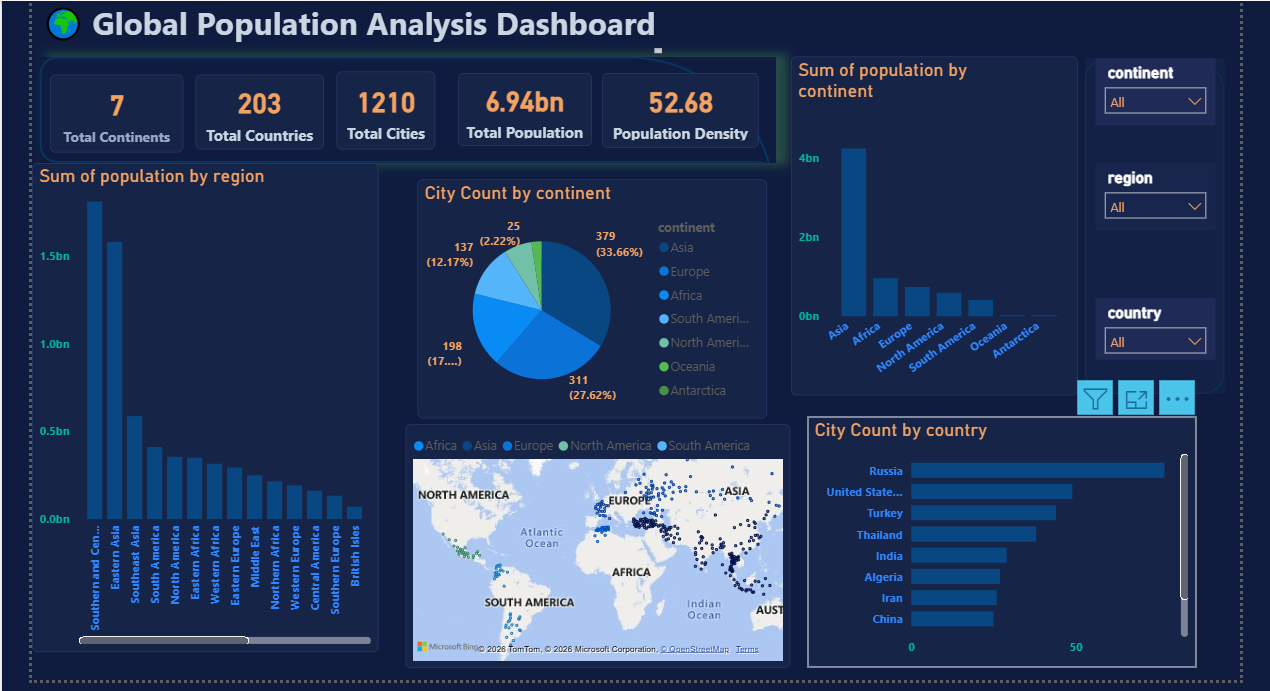

The dashboard page shown, as its layout file describes it:
{"tool":"powerbi","page":{"name":"Cities & Countries Analysis","canvas":[1280,720],"ordinal":0},"visuals":[{"type":"shape","box":[1116.6,60.4,147.9,356.3],"z":0},{"type":"shape","box":[8,58.9,781,112.9],"z":1000},{"type":"textbox","title":"🌍 Global  Population Analysis Dashboard","box":[0,0,672.8,60.4],"z":2000},{"type":"card","title":"Total Cities","fields":{"Values":["cities csv.Total Population"]},"box":[451.7,75.6,141.7,77.5],"z":3000},{"type":"card","title":"Total Cities","fields":{"Values":["cities csv.Total Continents"]},"box":[19.1,77.9,141.6,82.7],"z":4000},{"type":"card","title":"Total Cities","fields":{"Values":["cities csv.Total Countries"]},"box":[173.9,77.5,136.1,79.4],"z":5000},{"type":"card","fields":{"Values":["cities csv.Total Cities"]},"box":[322.9,74.8,105,82.7],"z":6000},{"type":"clusteredColumnChart","fields":{"Category":["countries csv.continent"],"Y":["Sum(countries csv.population)"]},"box":[804.8,58.9,303.8,359.5],"z":7000},{"type":"map","title":"Top 10 Countries by City Count","fields":{"Y":["cities csv.latitude"],"X":["cities csv.longitude"],"Series":["countries csv.continent"],"Size":["cities csv.City Count"]},"box":[396.9,447.9,408.2,258.9],"z":8000},{"type":"clusteredBarChart","fields":{"Category":["cities csv.country"],"Y":["cities csv.City Count"]},"box":[822.3,440.6,412,265.6],"z":9000},{"type":"slicer","fields":{"Values":["countries csv.region"]},"box":[1127.7,171.8,127.2,71.6],"z":10000},{"type":"slicer","fields":{"Values":["cities csv.country"]},"box":[1127.7,314.9,127.2,65.2],"z":11000},{"type":"clusteredColumnChart","fields":{"Category":["countries csv.region"],"Y":["Sum(countries csv.population)"]},"box":[0,171.8,367.4,518.5],"z":12000},{"type":"card","fields":{"Values":["cities csv.Population Density"]},"box":[604.7,75.6,166.3,79.4],"z":13000},{"type":"slicer","fields":{"Values":["countries csv.continent"]},"box":[1127.7,60.4,127.2,71.6],"z":14000},{"type":"pieChart","fields":{"Category":["countries csv.continent"],"Y":["cities csv.City Count"]},"box":[408.2,189,370.4,253.2],"z":15000}]}

Visuals, with their boxes on the page's 1280x720 design canvas (x1, y1, x2, y2). These are canvas units, not pixel positions in the 1270x691 screenshot, which may show the page scaled, cropped or inside an application window:
shape: x1=1117, y1=60, x2=1264, y2=417
shape: x1=8, y1=59, x2=789, y2=172
"🌍 Global  Population Analysis Dashboard" textbox: x1=0, y1=0, x2=673, y2=60
"Total Cities" card: x1=452, y1=76, x2=593, y2=153
"Total Cities" card: x1=19, y1=78, x2=161, y2=161
"Total Cities" card: x1=174, y1=78, x2=310, y2=157
card - cities csv.Total Cities: x1=323, y1=75, x2=428, y2=158
clusteredColumnChart - countries csv.continent x Sum(countries csv.population): x1=805, y1=59, x2=1109, y2=418
"Top 10 Countries by City Count" map: x1=397, y1=448, x2=805, y2=707
clusteredBarChart - cities csv.country x cities csv.City Count: x1=822, y1=441, x2=1234, y2=706
slicer - countries csv.region: x1=1128, y1=172, x2=1255, y2=243
slicer - cities csv.country: x1=1128, y1=315, x2=1255, y2=380
clusteredColumnChart - countries csv.region x Sum(countries csv.population): x1=0, y1=172, x2=367, y2=690
card - cities csv.Population Density: x1=605, y1=76, x2=771, y2=155
slicer - countries csv.continent: x1=1128, y1=60, x2=1255, y2=132
pieChart - countries csv.continent x cities csv.City Count: x1=408, y1=189, x2=779, y2=442
